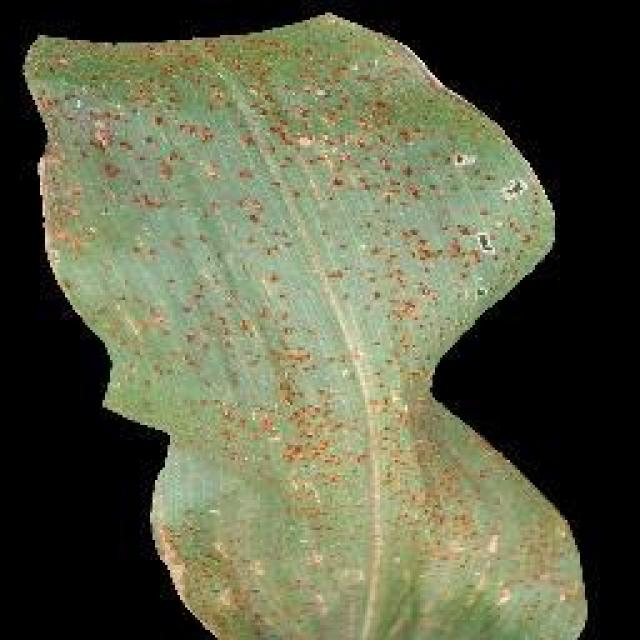Corn Common Rust: (132, 68, 503, 542)
